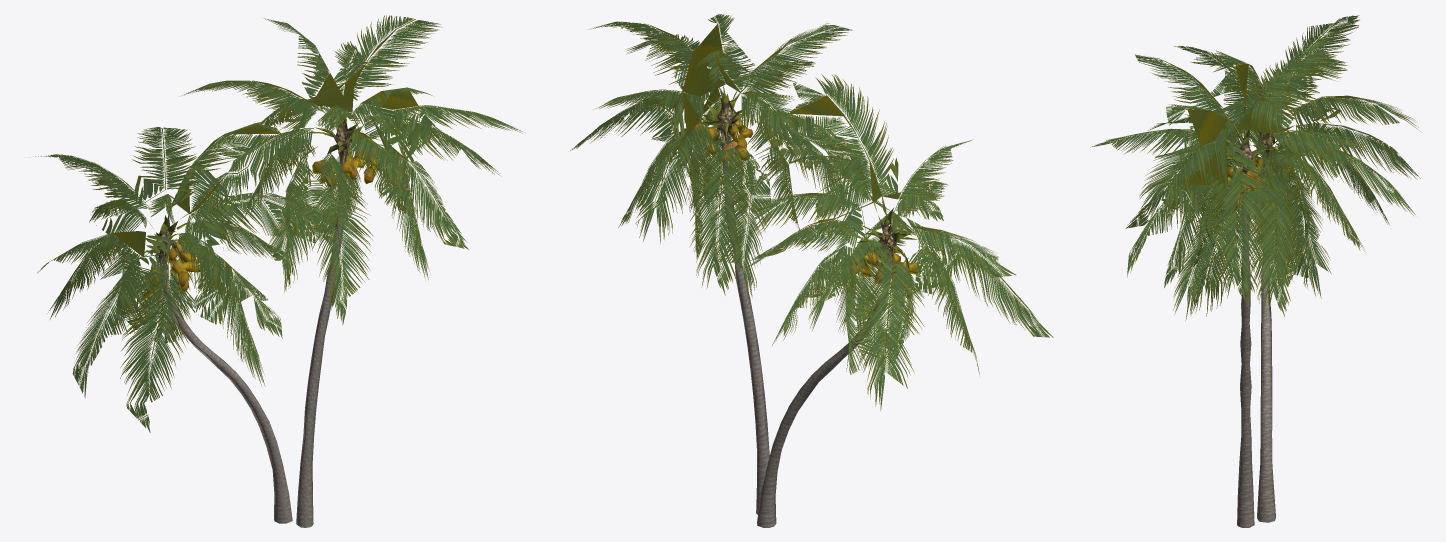
Rendered from palm_coconut_lod1.glb.
3 renders of one model, left to right at view 1: azimuth 30°, elevation 25°; view 2: azimuth 150°, elevation 25°; view 3: azimuth 270°, elevation 25°, orthographic. The views are drawn at different scales.
Parts seen in each view (by area): view 1: Tree_2, Tree_0, Tree_4, Tree_3; view 2: Tree_2, Tree_0, Tree_4, Tree_3; view 3: Tree_2, Tree_0, Tree_3, Tree_4.
Part boxes in pixels (x1,y1,x2,y2): Tree_2: (30, 15, 522, 432); Tree_0: (161, 162, 346, 527); Tree_4: (142, 147, 381, 300); Tree_3: (139, 100, 380, 288); Tree_2: (570, 14, 1053, 410); Tree_0: (721, 143, 892, 527); Tree_4: (692, 118, 921, 298); Tree_3: (697, 82, 917, 269); Tree_2: (1090, 15, 1420, 321); Tree_0: (1237, 165, 1275, 527); Tree_3: (1224, 122, 1296, 184); Tree_4: (1226, 158, 1292, 211).
Bounding box in the file's own units: 6.3 × 6.28 × 4.02.
Materials: 5 (5 with a texture image).
